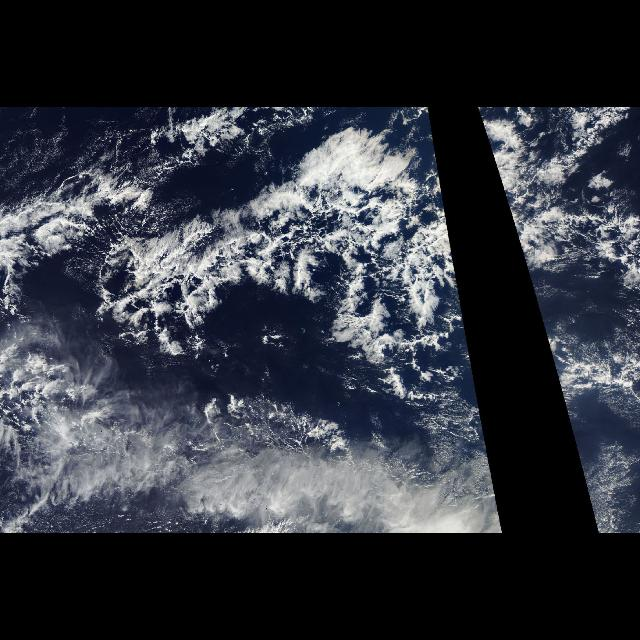Fish: (3, 119, 475, 377)
Gravel: (125, 195, 451, 347)
